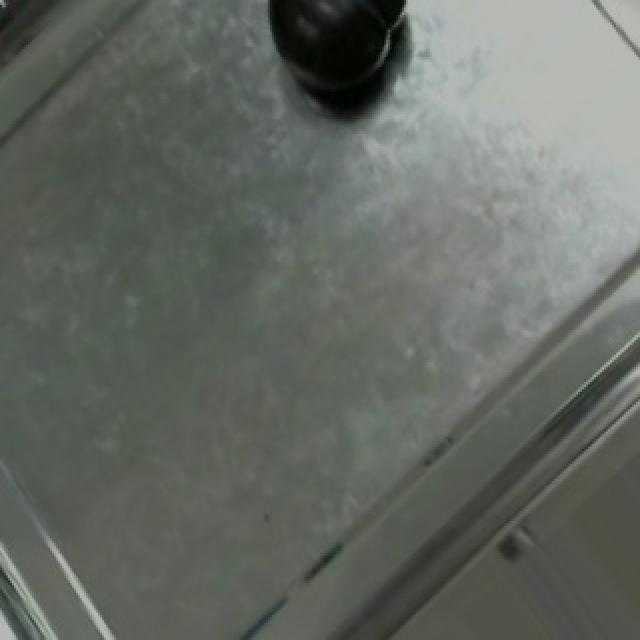Fruit: (252, 0, 424, 124)
